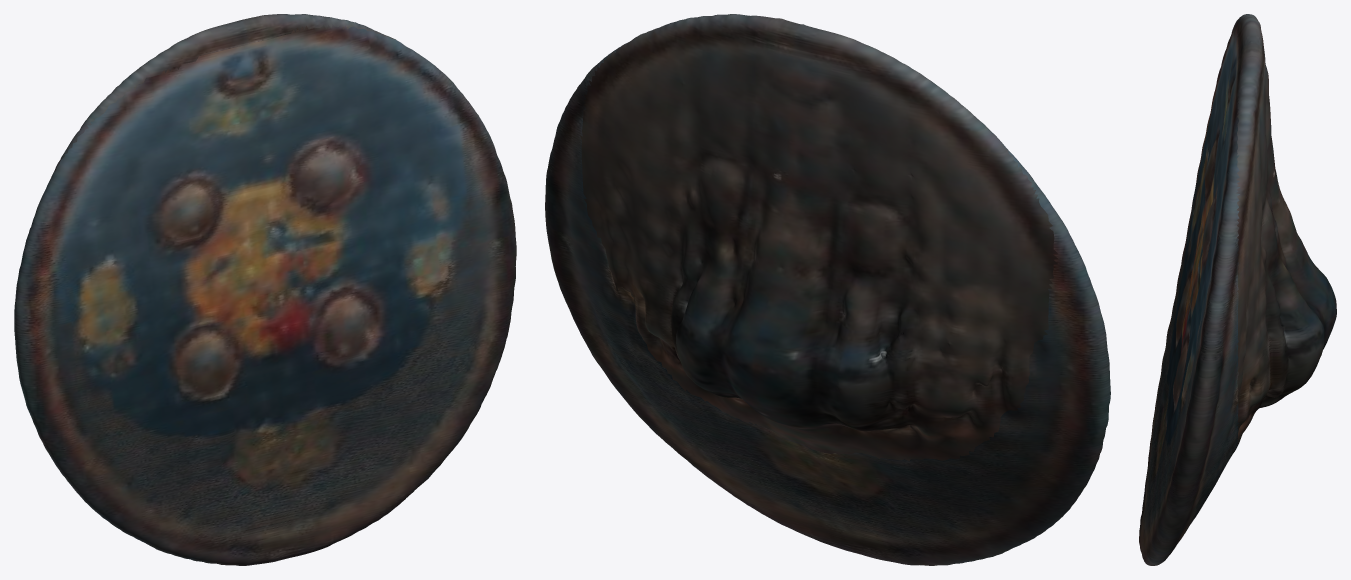
File: kfl-2132.glb
3 views of the same model, side by side, from view 1: azimuth 30°, elevation 25°; view 2: azimuth 150°, elevation 25°; view 3: azimuth 270°, elevation 25° (orthographic). The views are drawn at different scales.
Parts seen in each view (by area): view 1: geometry_0; view 2: geometry_0; view 3: geometry_0.
Part boxes in pixels (<box>): geometry_0: <box>14,14,516,565</box>; geometry_0: <box>545,14,1110,565</box>; geometry_0: <box>1139,14,1336,565</box>.
Size of the model in its own units: 0.9924 by 0.9601 by 0.3452.
1 material, 1 textured.
